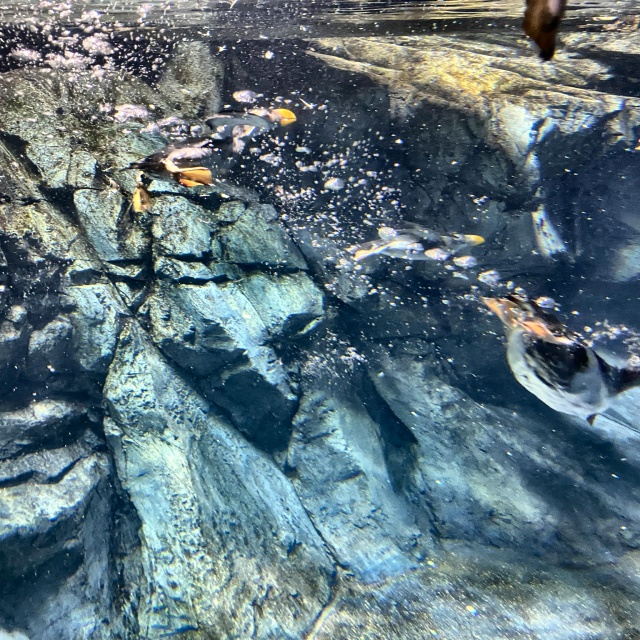puffin: (101, 97, 303, 214), (479, 289, 634, 423), (344, 225, 490, 264)
